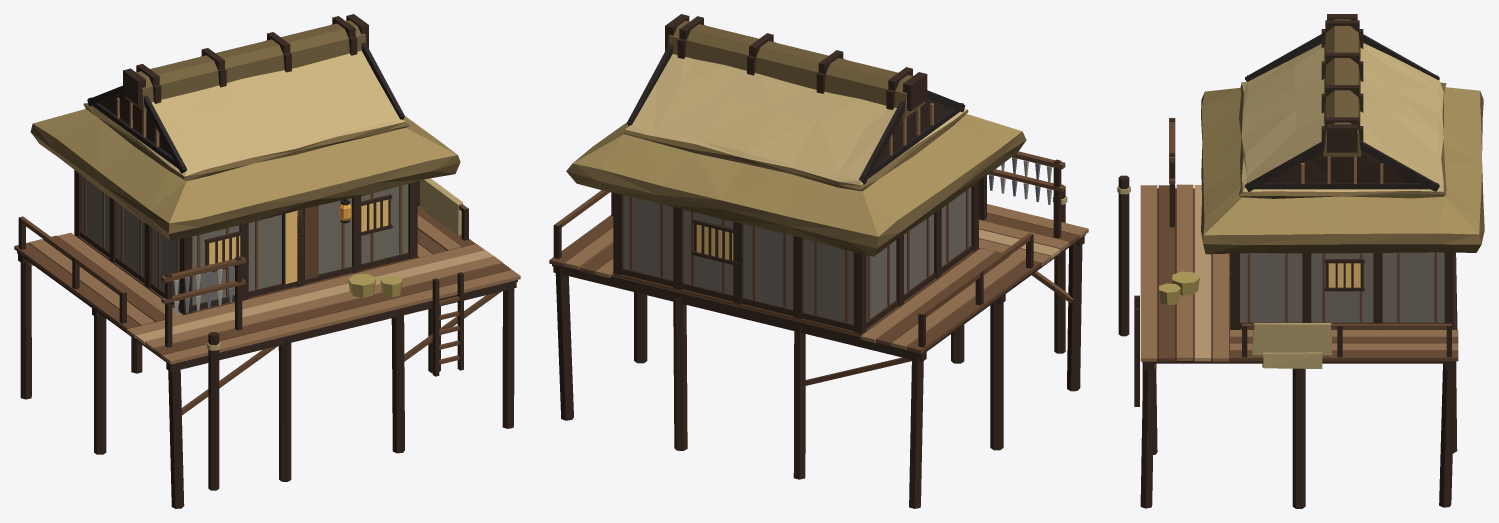
Rendered from house_fisher.fbx.
3 views of the same model, side by side, from view 1: azimuth 30°, elevation 25°; view 2: azimuth 150°, elevation 25°; view 3: azimuth 270°, elevation 25° (orthographic). The views are drawn at different scales.
Visible parts, largest first — view 1: house_fisher; view 2: house_fisher; view 3: house_fisher.
Part boxes in pixels (x1,y1,x2,y2): house_fisher: (14, 14, 520, 508); house_fisher: (549, 14, 1088, 508); house_fisher: (1117, 14, 1484, 508).
Size of the model in its own units: 9.03 by 8.58 by 8.08.
